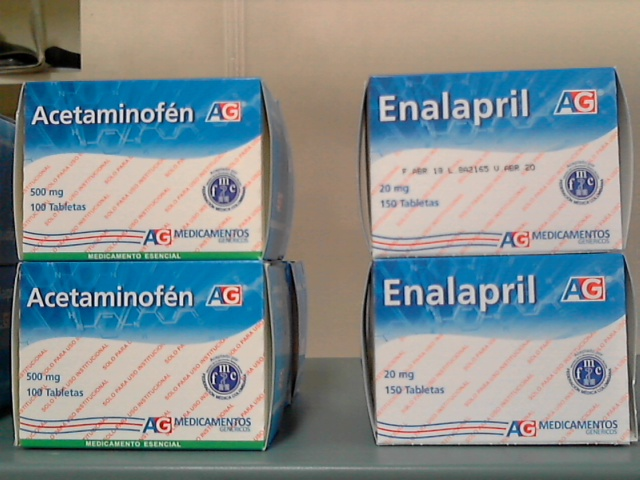AG: (372, 258, 628, 443), (20, 264, 264, 451), (370, 75, 622, 252), (25, 80, 263, 258)
